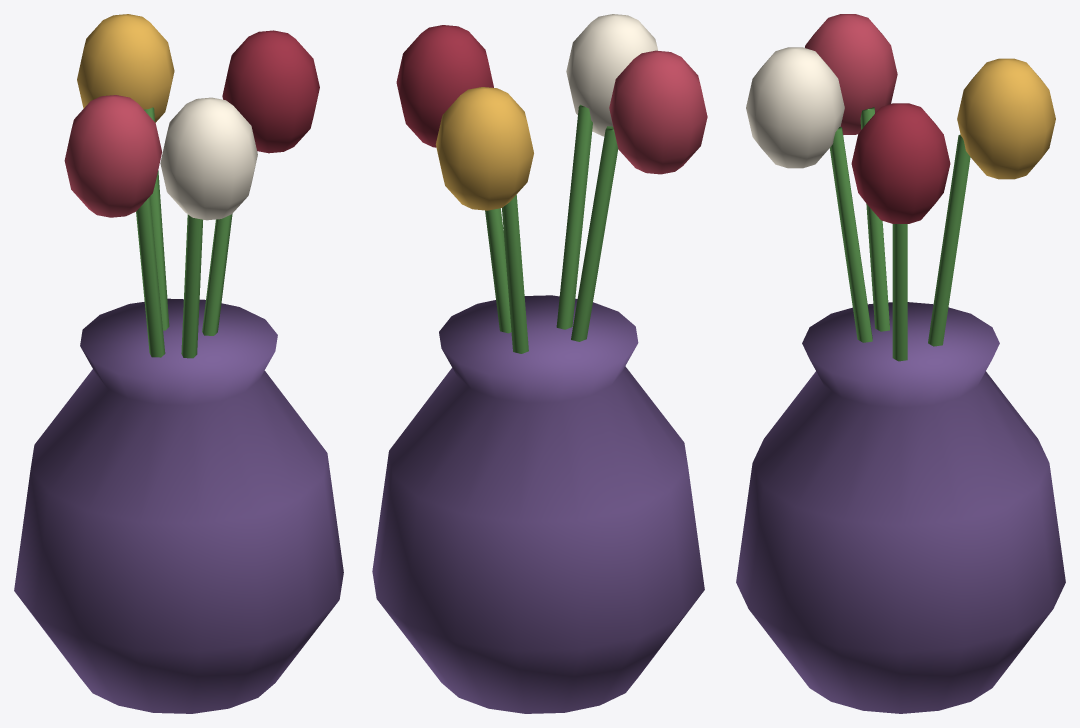
The model's file is flower-vase.glb.
3 views of the same model, side by side, from view 1: azimuth 30°, elevation 25°; view 2: azimuth 150°, elevation 25°; view 3: azimuth 270°, elevation 25° (orthographic).
Visible parts, largest first — view 1: flower-vase; view 2: flower-vase; view 3: flower-vase.
Boxes of the visible parts, x1=… form: flower-vase: x1=14, y1=14, x2=343, y2=713; flower-vase: x1=372, y1=14, x2=707, y2=713; flower-vase: x1=736, y1=14, x2=1065, y2=713.
Bounding box in the file's own units: 0.2 × 0.409 × 0.2.
